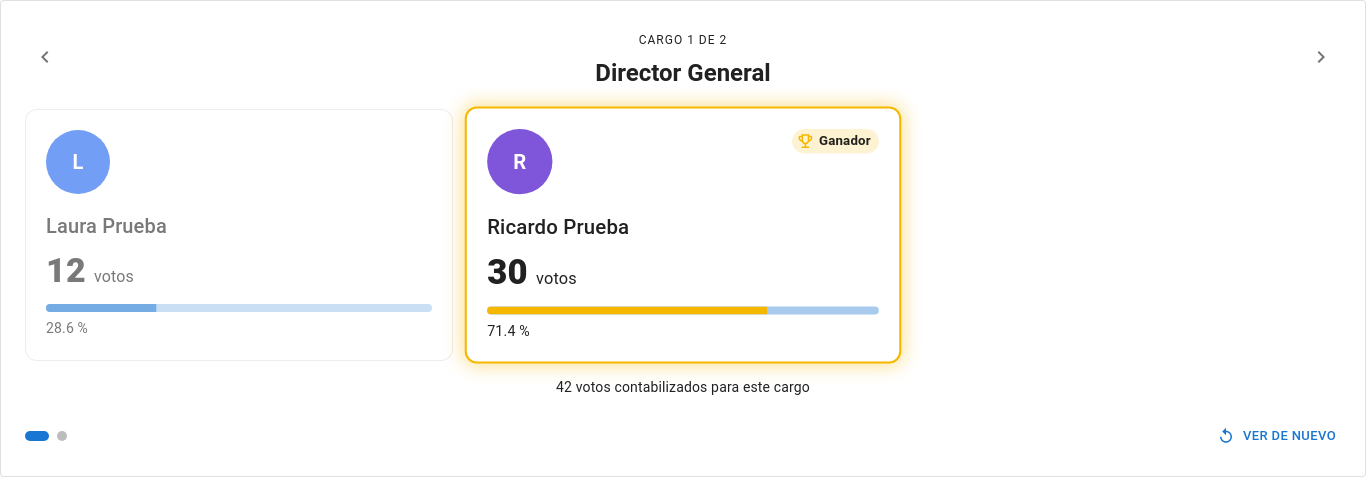
Test: ResultsCarousel › navega al siguiente cargo y muestra el empate
Click the button named "Cargo siguiente" at (1321, 57), box top-left (1301, 37), bottom-right (1341, 77)
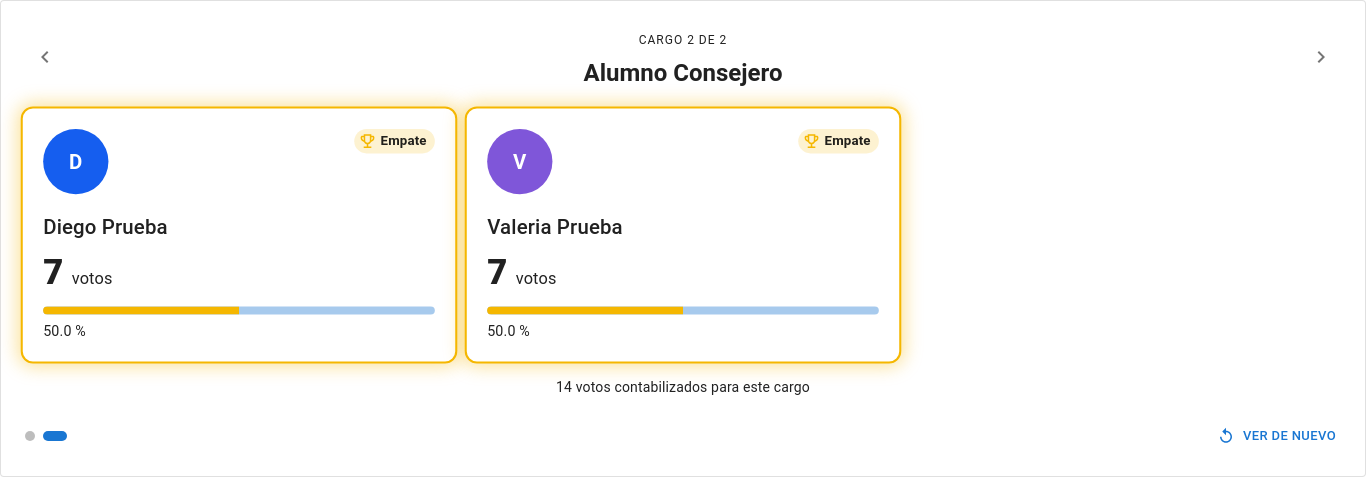
Expected: the heading "Alumno Consejero" is shown, top-left (584, 57), bottom-right (782, 89)
Expected: the text "Empate" is shown 2 times, top-left (381, 133), bottom-right (427, 148); top-left (825, 133), bottom-right (871, 148)
